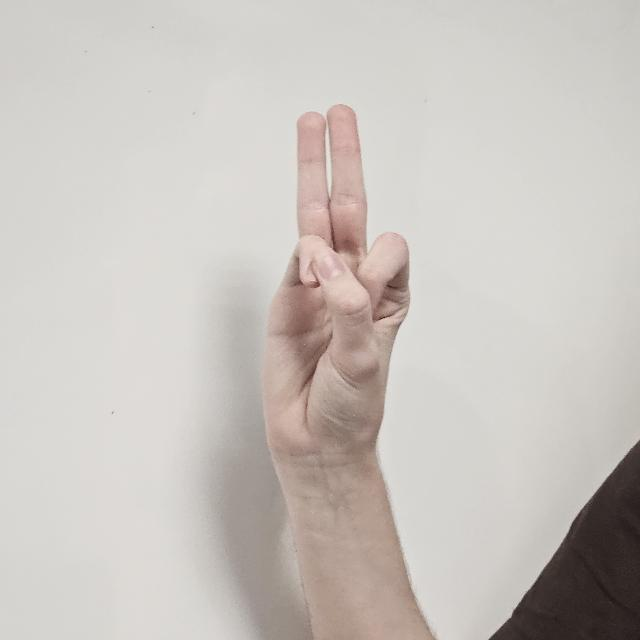R: (264, 105, 412, 493)
